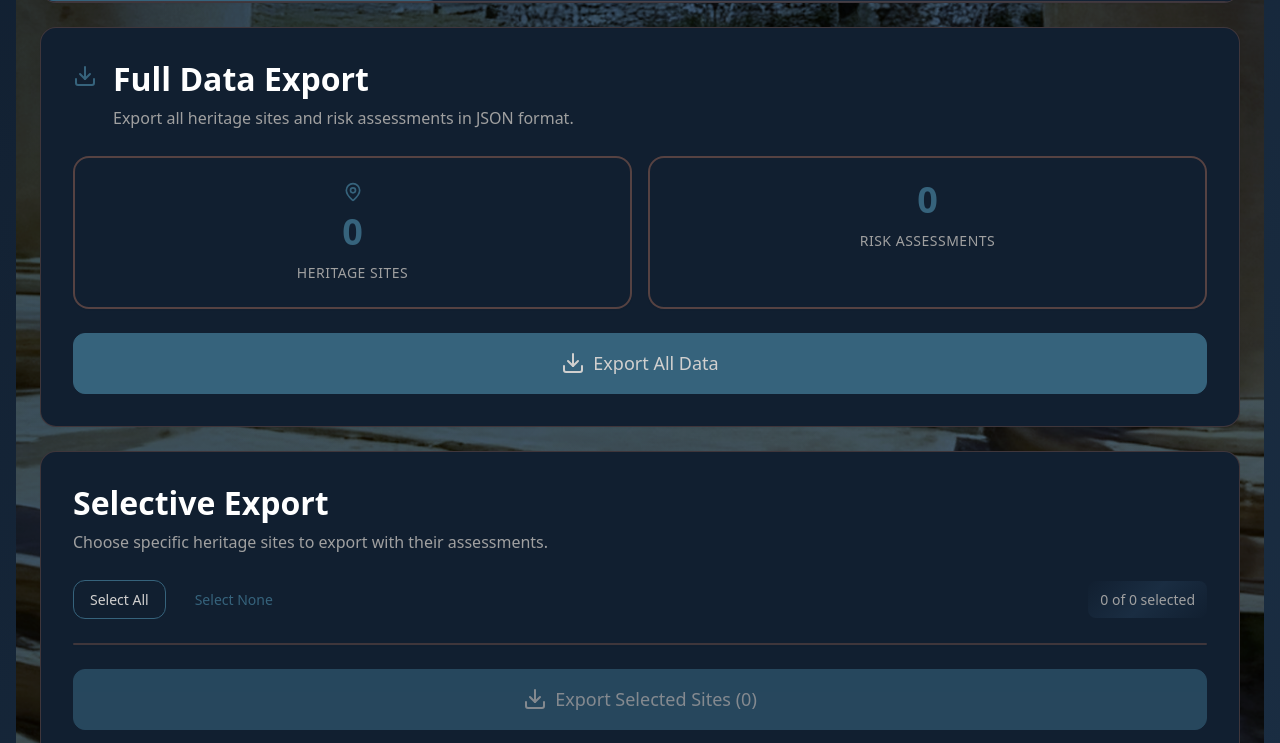
Test case: DataManager › handles select all/none
(page scrolled)
Expected: the text "Select All" is shown, left=90, top=589, right=149, bottom=610
Click the button "Select None".
click(234, 599)  # box left=178, top=580, right=290, bottom=619
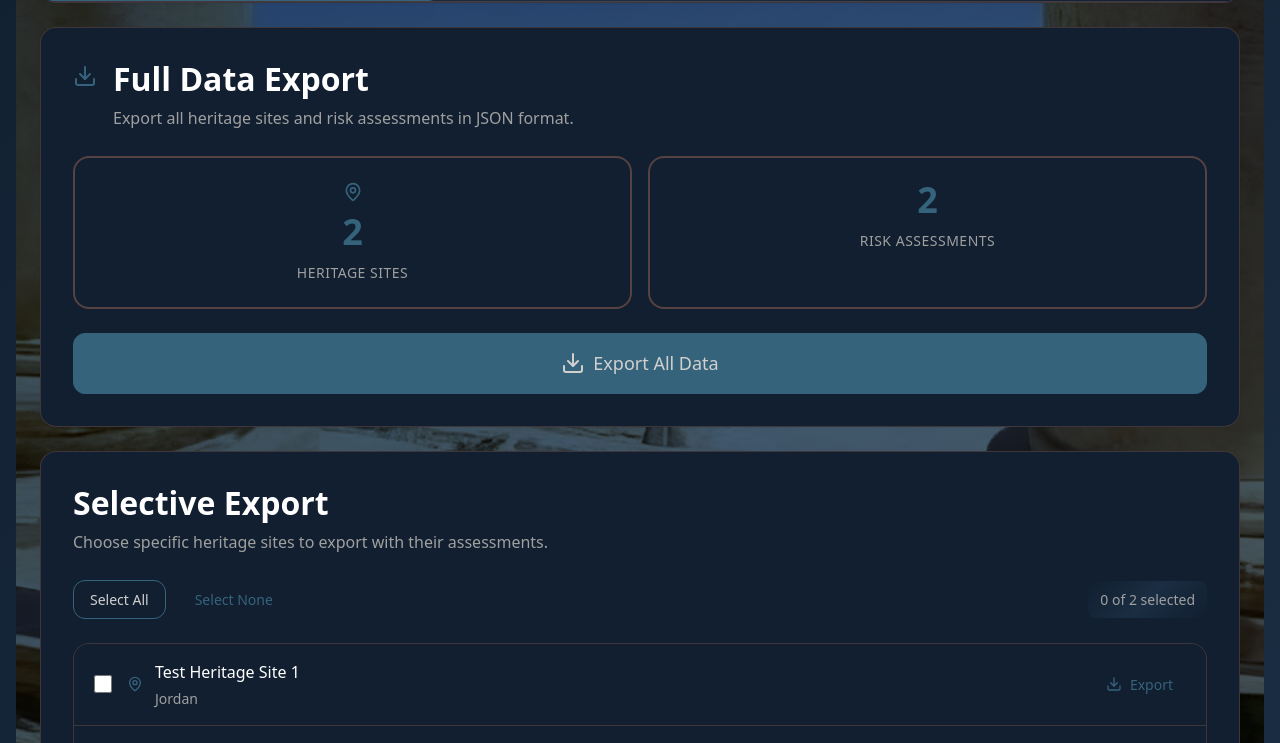
Click the button "Select All".
click(119, 599)  # box left=73, top=580, right=166, bottom=619
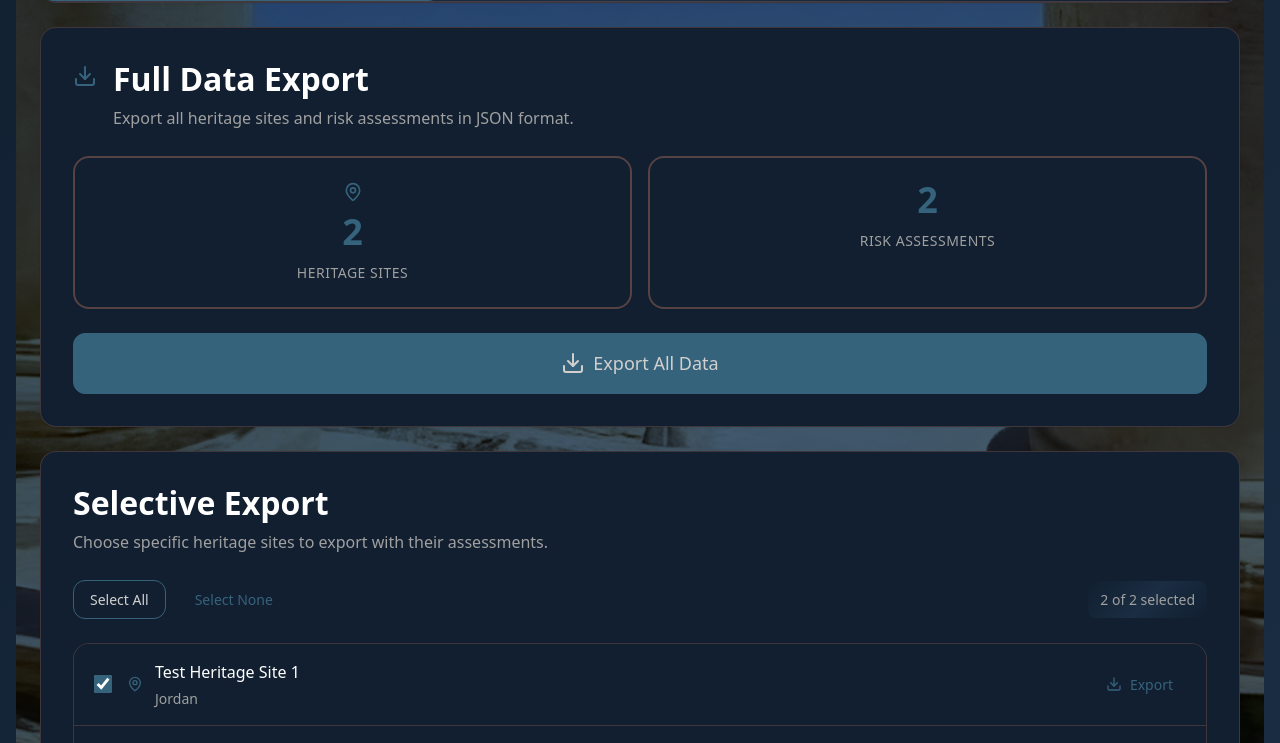
Result: the text "2 of 2 selected" is shown at left=1088, top=581, right=1207, bottom=618
